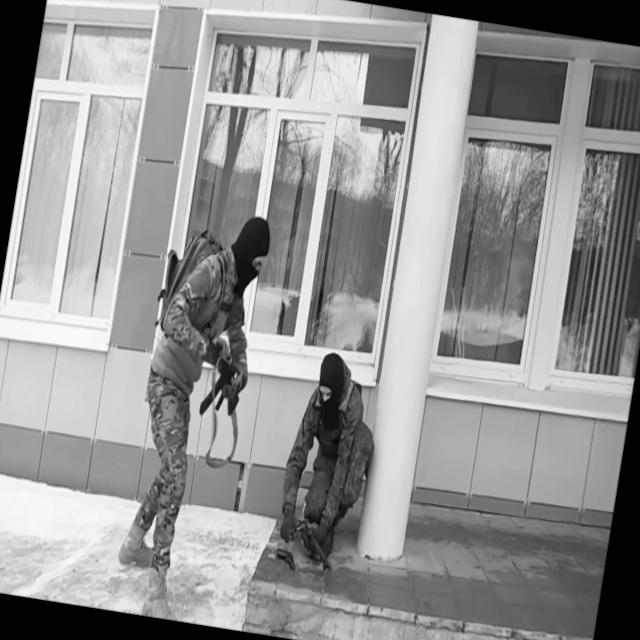gun: (190, 322, 253, 422), (286, 514, 341, 576), (274, 544, 300, 576)
person with a gun: (110, 199, 276, 626), (269, 344, 389, 578)
